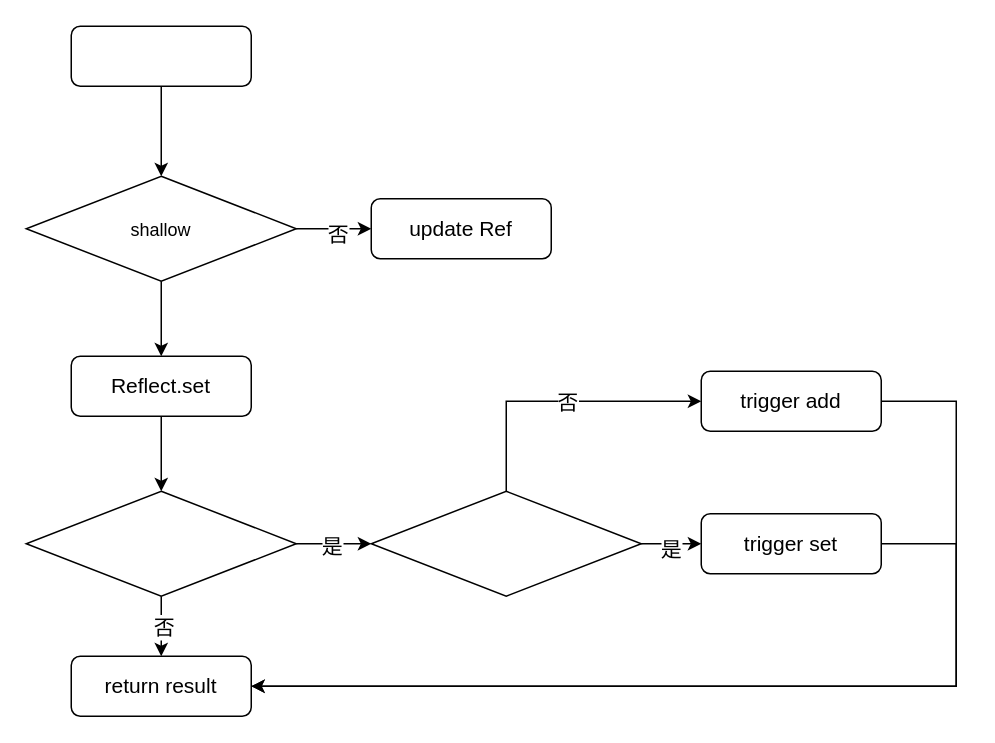
This 995x743 diagram has some shape labels left out. The centre of each missing label's shape, as x and y in pixels:
"hadKey" belongs at (x=505, y=543).
"set" belongs at (x=160, y=55).
"target === toRaw(receiver)" belongs at (x=160, y=543).
